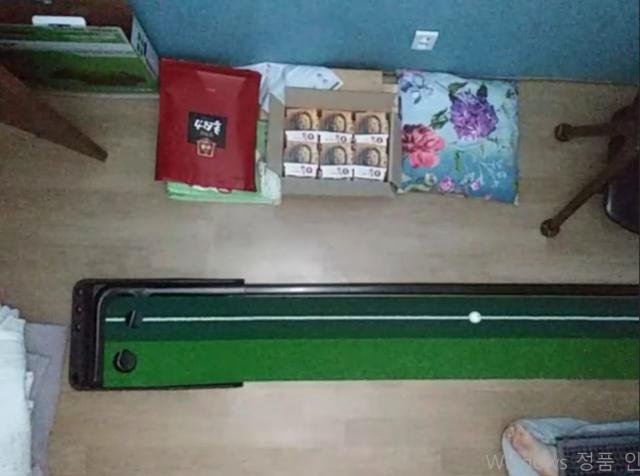golf_ball: (469, 311, 481, 324)
green_zone: (104, 296, 640, 387)
hole: (113, 348, 137, 373), (125, 309, 143, 329)
